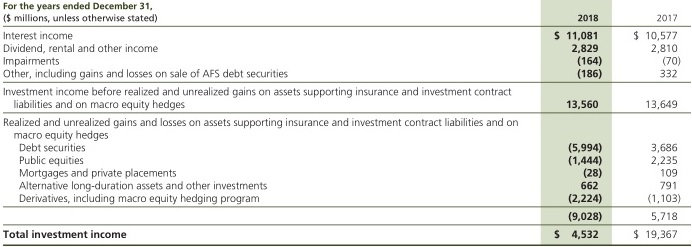column: (3, 2, 518, 247), (555, 1, 602, 247), (634, 3, 680, 247)
row: (1, 43, 692, 54), (1, 57, 692, 68), (1, 117, 692, 128), (1, 130, 692, 141), (1, 210, 692, 221), (2, 142, 692, 153), (1, 2, 692, 12), (1, 31, 692, 41), (1, 69, 692, 79), (1, 99, 692, 109), (1, 169, 692, 179), (1, 194, 692, 204), (2, 156, 692, 166), (2, 181, 692, 191), (1, 14, 692, 23), (1, 88, 692, 97), (1, 230, 692, 239)
